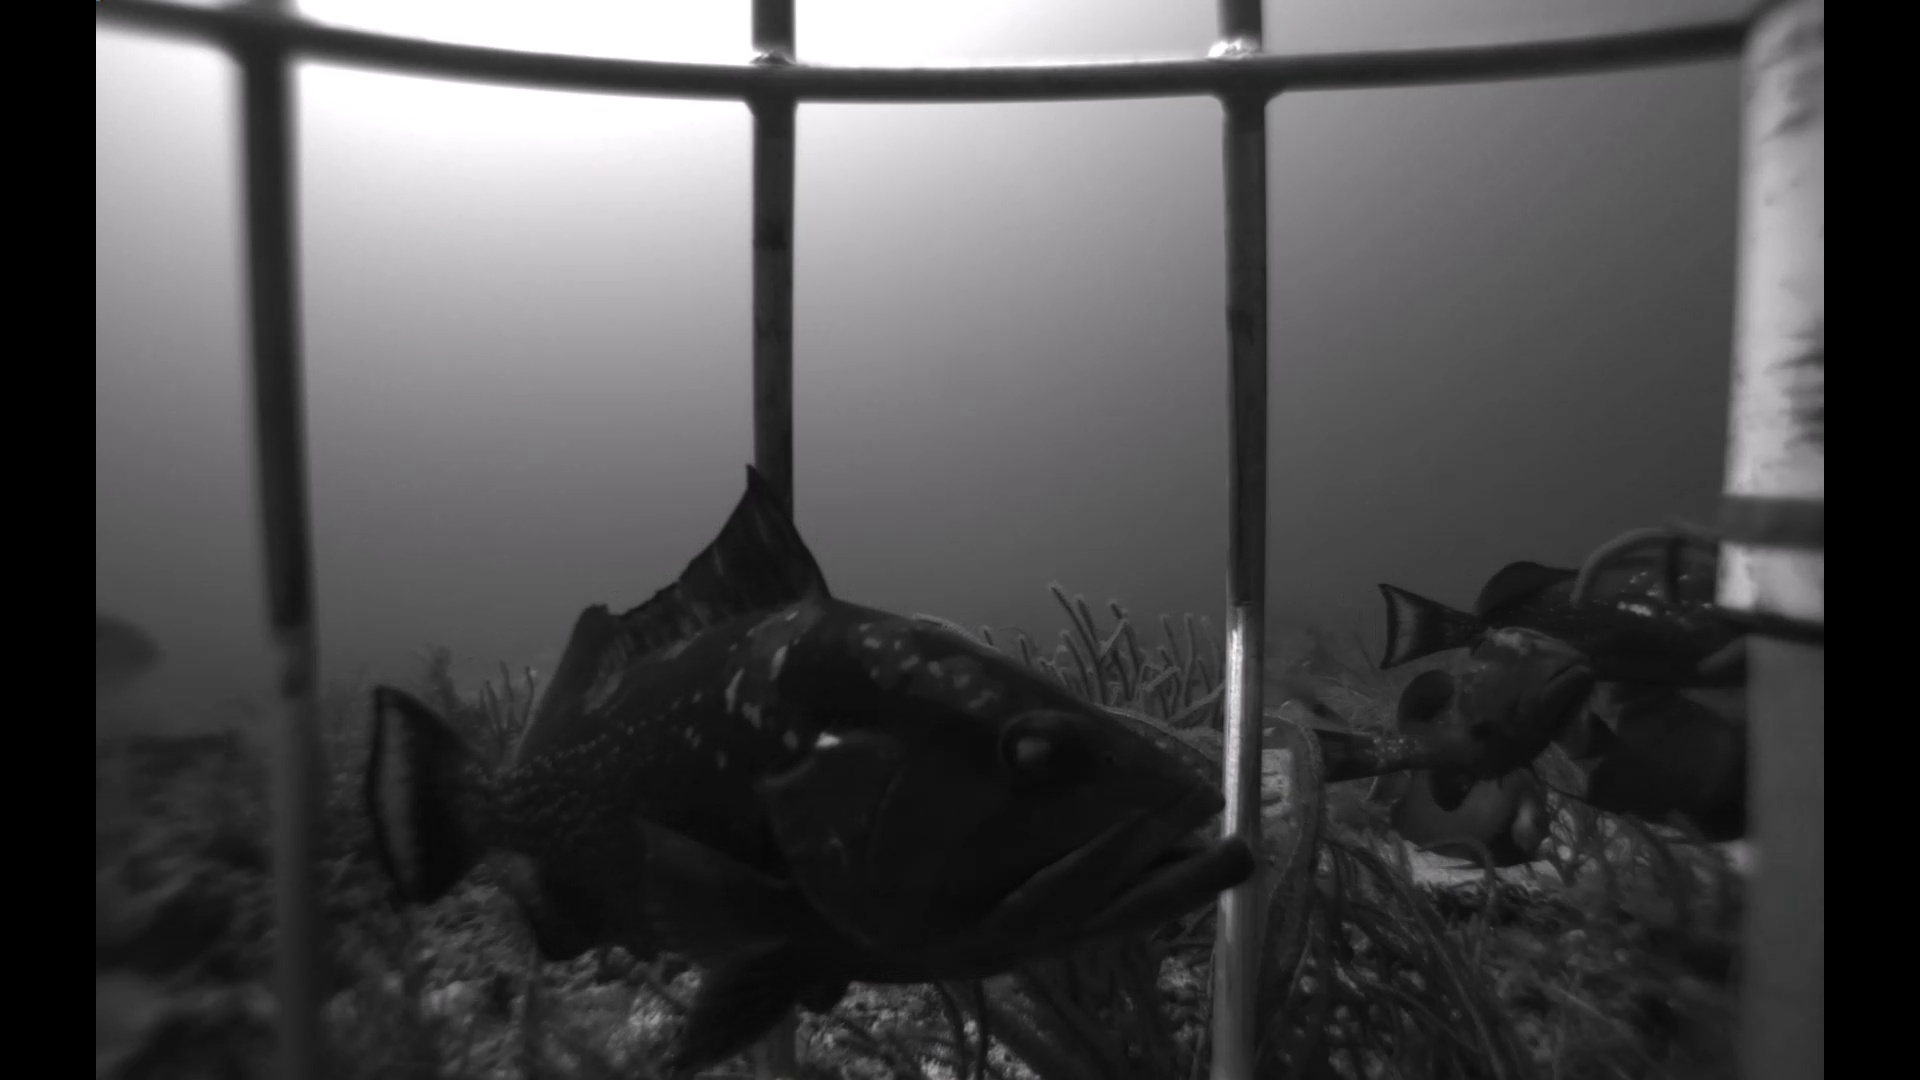BALISTESCAPRISCUS-189030502: (98, 603, 175, 704)
CALAMUSNODOSUS-170210608: (99, 724, 160, 858), (1039, 607, 1153, 673)
EPINEPHELUSMORIO-170021211: (353, 438, 1284, 1077), (1358, 533, 1754, 703), (1313, 608, 1605, 799)
LUTJANUSGRISEUS-170151109: (1203, 661, 1353, 758)
POMACANTHUSARCUATUS-170290201: (1528, 673, 1747, 855), (1352, 729, 1560, 880)
